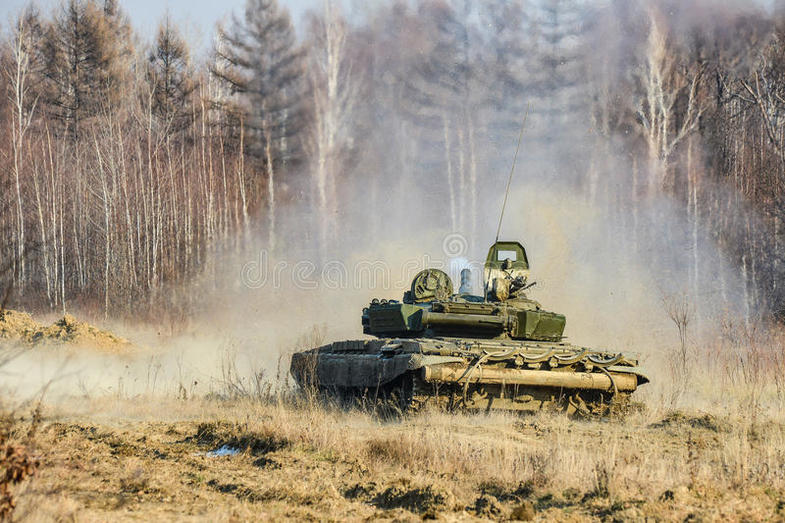t72: (291, 280, 642, 417)
